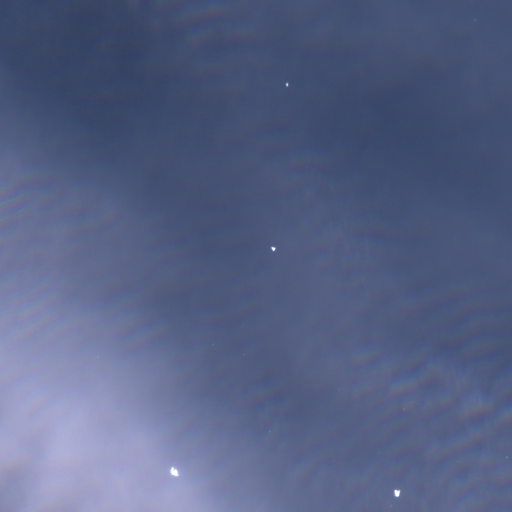Iceberg: (170, 467, 178, 476), (394, 489, 400, 496), (271, 246, 275, 250), (285, 82, 288, 86)
